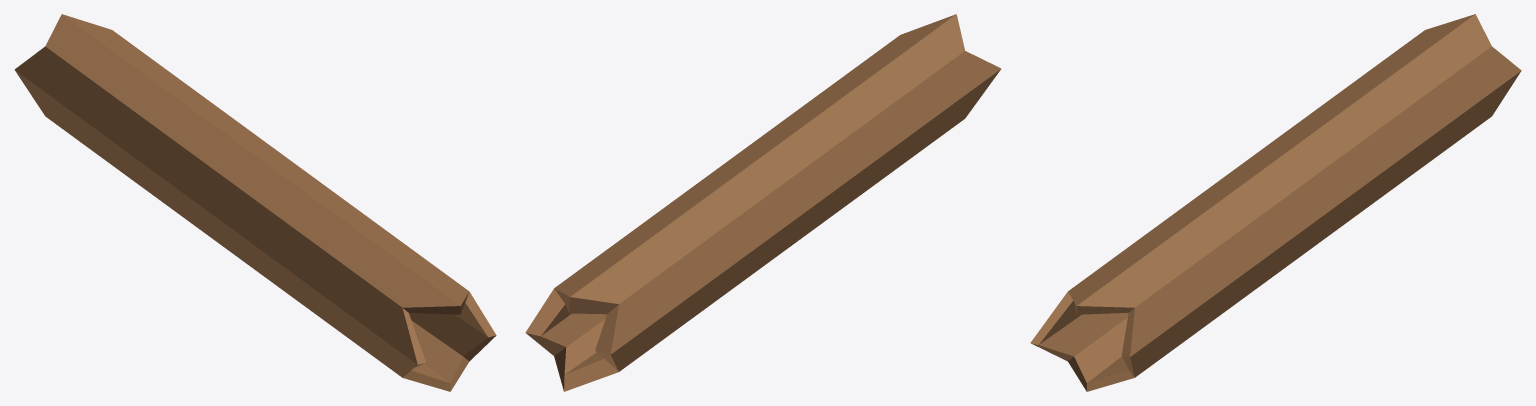
File: Branch_3.fbx
The picture shows the model from 3 angles, left to right: view 1: azimuth 30°, elevation 25°; view 2: azimuth 150°, elevation 25°; view 3: azimuth 330°, elevation 25°; orthographic projection. The views are drawn at different scales.
Parts seen in each view (by area): view 1: Branch2_mesh; view 2: Branch2_mesh; view 3: Branch2_mesh.
Part boxes in pixels (x1=…): Branch2_mesh: x1=14, y1=14, x2=496, y2=391; Branch2_mesh: x1=525, y1=14, x2=1001, y2=391; Branch2_mesh: x1=1030, y1=14, x2=1521, y2=391.
Size of the model in its own units: 34.54 by 34.54 by 273.
